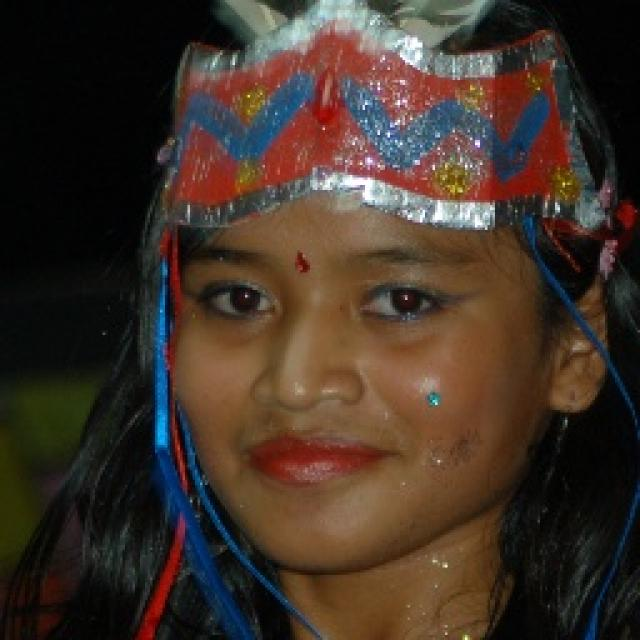earlobe: (546, 264, 614, 416)
